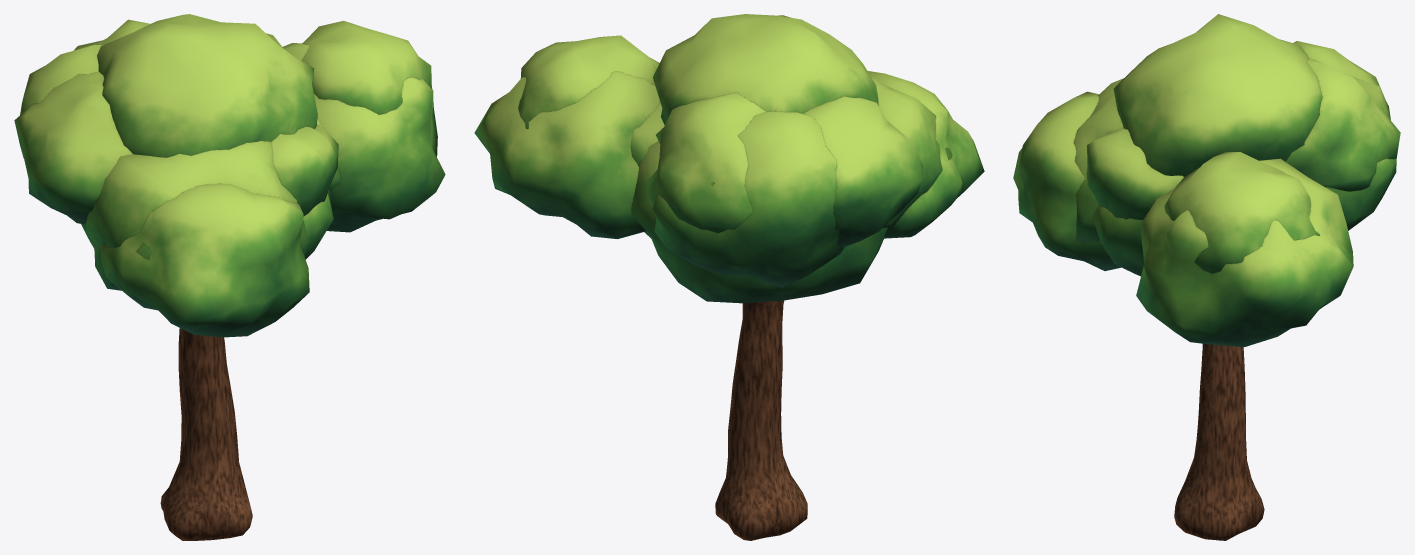
The model's file is Env_BroadTree_1.glb.
3 views of the same model, side by side, from view 1: azimuth 30°, elevation 25°; view 2: azimuth 150°, elevation 25°; view 3: azimuth 270°, elevation 25° (orthographic). The views are drawn at different scales.
Visible parts, largest first — view 1: Env_BroadTree_1.001; view 2: Env_BroadTree_1.001; view 3: Env_BroadTree_1.001.
Part boxes in pixels (x1,y1,x2,y2): Env_BroadTree_1.001: [14, 14, 445, 540]; Env_BroadTree_1.001: [474, 14, 984, 540]; Env_BroadTree_1.001: [1013, 14, 1400, 540].
Size of the model in its own units: 12.01 by 14 by 10.04.
Materials: 1 (1 with a texture image).
